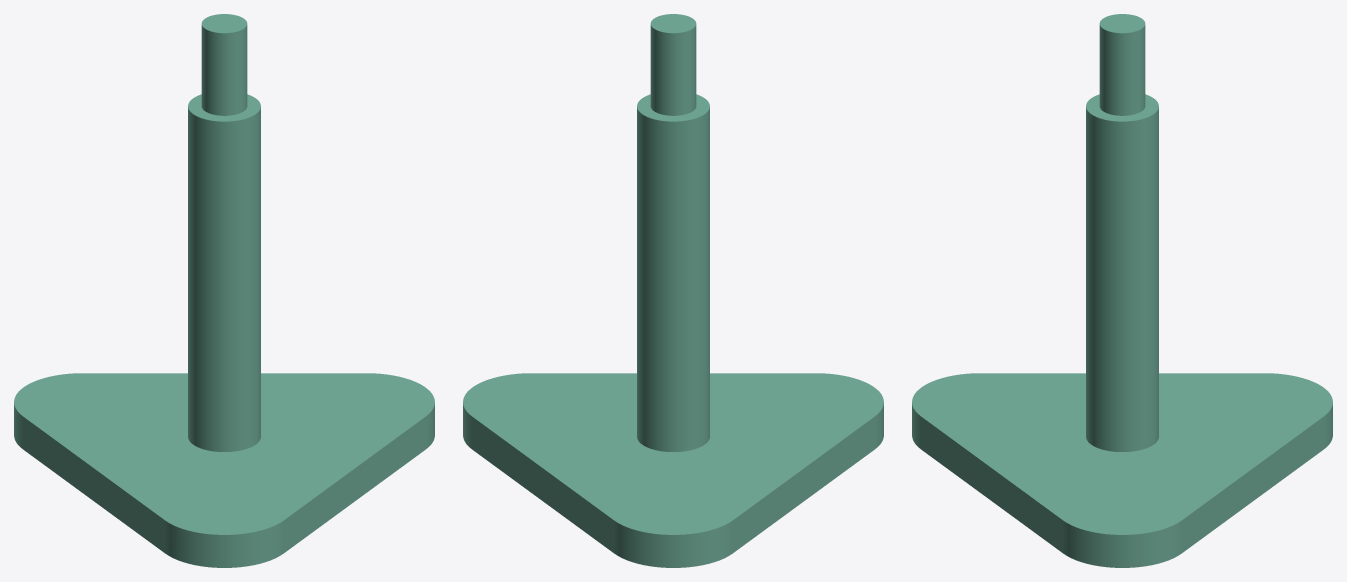
Rendered from step_15.glb.
The picture shows the model from 3 angles, left to right: view 1: azimuth 30°, elevation 25°; view 2: azimuth 150°, elevation 25°; view 3: azimuth 270°, elevation 25°; orthographic projection.
Visible parts, largest first — view 1: part__carrier; view 2: part__carrier; view 3: part__carrier.
Part boxes in pixels (x1,y1,x2,y2): part__carrier: (14, 14, 434, 567); part__carrier: (463, 14, 883, 567); part__carrier: (912, 14, 1332, 567).
Bounding box in the file's own units: 41.99 × 54 × 46.17.
